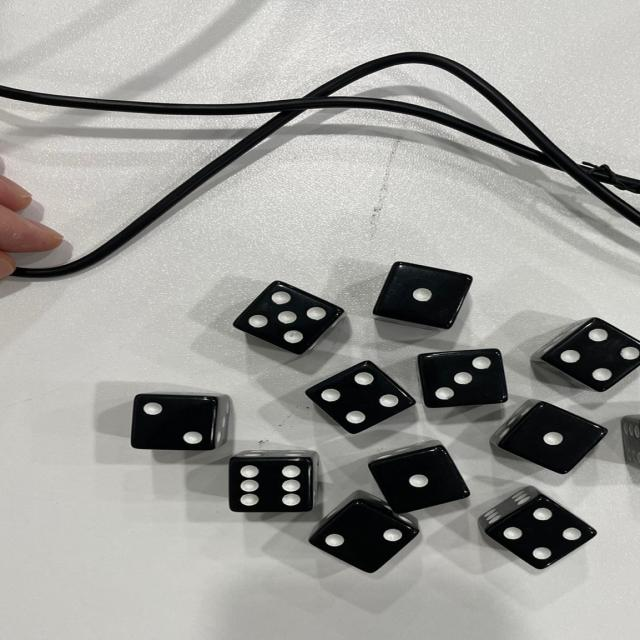DICE1: (369, 446, 481, 508), (372, 278, 469, 328), (516, 406, 600, 460)
DICE2: (316, 504, 423, 568), (138, 392, 234, 450)
DICE3: (408, 348, 518, 408)
DICE4: (494, 487, 608, 571), (305, 368, 418, 428), (563, 322, 640, 389)
DICE5: (236, 276, 347, 349)
DICE6: (219, 453, 320, 518)
